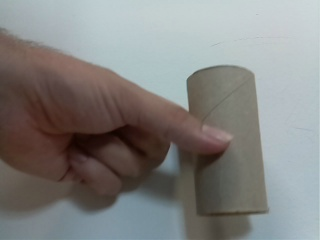rollo papel: (184, 64, 275, 219)
